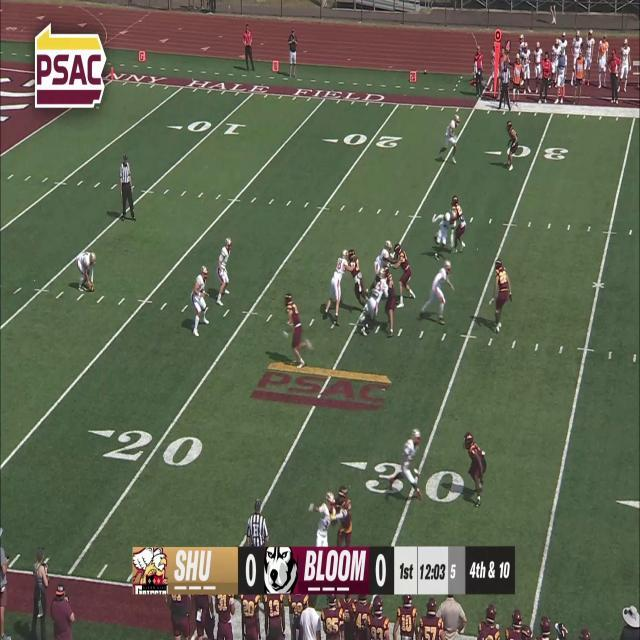football: (88, 282, 95, 292)
